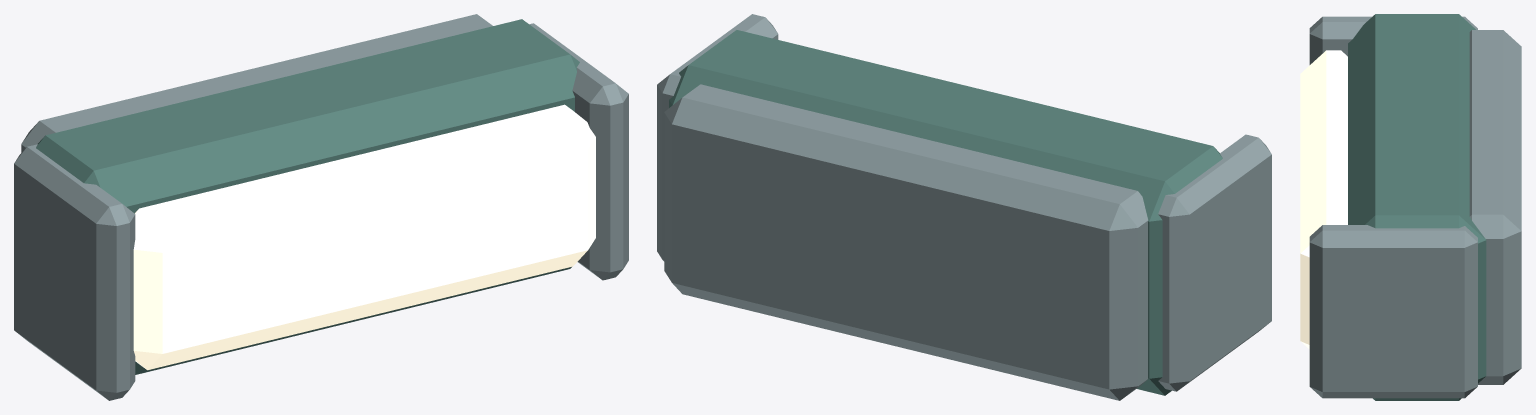
The model's file is Fixtures-WallLight.fbx.
3 views of the same model, side by side, from view 1: azimuth 30°, elevation 25°; view 2: azimuth 150°, elevation 25°; view 3: azimuth 270°, elevation 25° (orthographic). The views are drawn at different scales.
Visible parts, largest first — view 1: Diffuser, Lamp Housing, End Cap, End Cap.001, Wall Mount; view 2: Wall Mount, Lamp Housing, End Cap, End Cap.001; view 3: End Cap.001, Lamp Housing, Wall Mount, Diffuser, End Cap.
Part boxes in pixels (box(x1,y1,x2,y2)): Diffuser: box(133, 104, 595, 370); Lamp Housing: box(36, 19, 579, 374); End Cap: box(14, 144, 135, 400); End Cap.001: box(529, 23, 628, 280); Wall Mount: box(21, 14, 492, 152); Wall Mount: box(664, 84, 1148, 400); Lamp Housing: box(669, 30, 1222, 395); End Cap: box(1158, 134, 1271, 391); End Cap.001: box(657, 14, 778, 261); End Cap.001: box(1309, 225, 1477, 398); Lamp Housing: box(1348, 14, 1486, 400); Wall Mount: box(1469, 30, 1521, 384); Diffuser: box(1300, 50, 1347, 348); End Cap: box(1309, 16, 1477, 64).
Bounding box in the file's own units: 0.408 × 0.157 × 0.1695.
